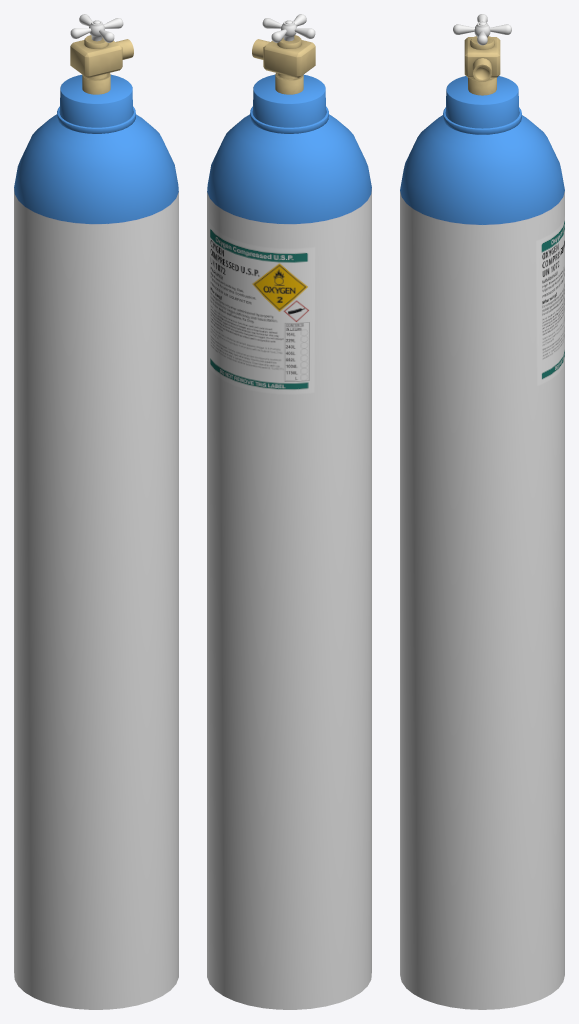
The model's file is OxygenCylinder.fbx.
3 renders of one model, left to right at view 1: azimuth 30°, elevation 25°; view 2: azimuth 150°, elevation 25°; view 3: azimuth 270°, elevation 25°, orthographic.
Parts seen in each view (by area): view 1: Cylinder_GR, CylinderTap_GR; view 2: Cylinder_GR, CylinderTap_GR; view 3: Cylinder_GR, CylinderTap_GR.
Boxes of the visible parts, box(x1,y1,x2,y2) form: Cylinder_GR: box(14, 35, 178, 1009); CylinderTap_GR: box(70, 14, 123, 42); Cylinder_GR: box(207, 35, 371, 1009); CylinderTap_GR: box(262, 14, 315, 42); Cylinder_GR: box(400, 36, 564, 1009); CylinderTap_GR: box(453, 14, 511, 45).
Size of the model in its own units: 0.2643 by 1.68 by 0.2643.
